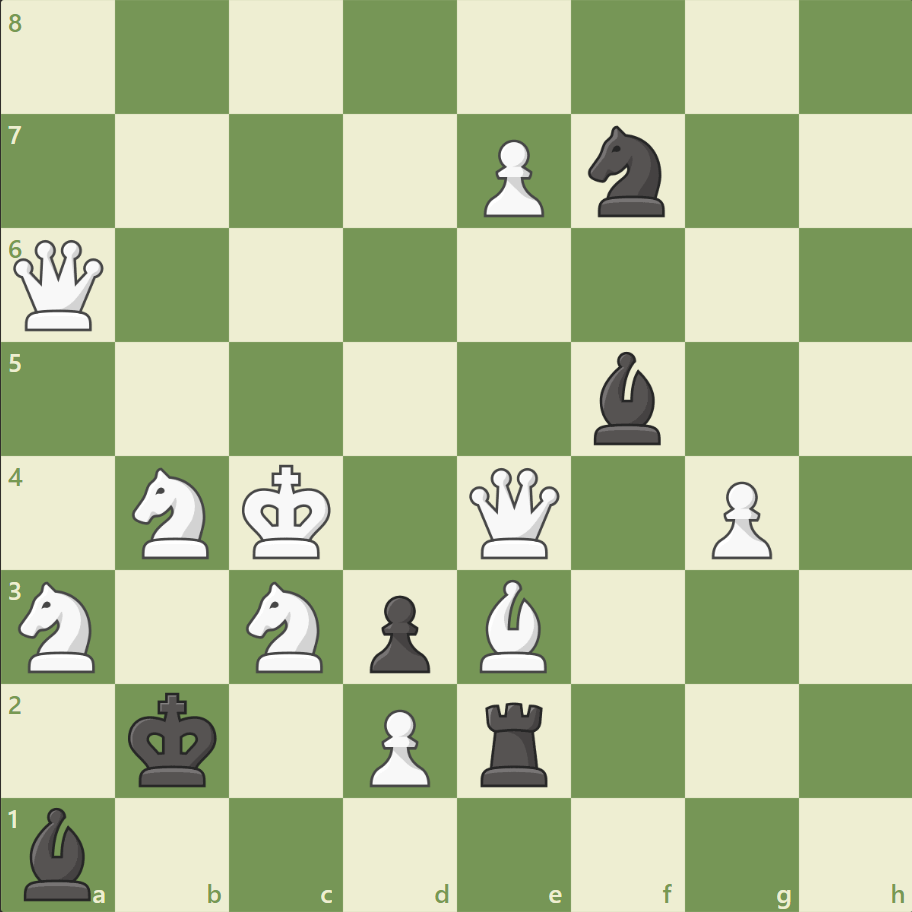B: (471, 574, 555, 676)
K: (238, 458, 338, 566)
N: (124, 461, 222, 564), (11, 575, 108, 677), (238, 575, 335, 677)
P: (474, 132, 549, 223), (701, 473, 776, 564), (361, 700, 435, 791)
Q: (10, 236, 109, 335), (464, 463, 563, 562)
b: (17, 801, 101, 904), (585, 347, 669, 449)
k: (124, 685, 224, 793)
n: (579, 121, 676, 223)
p: (361, 586, 435, 677)
r: (473, 693, 556, 790)
